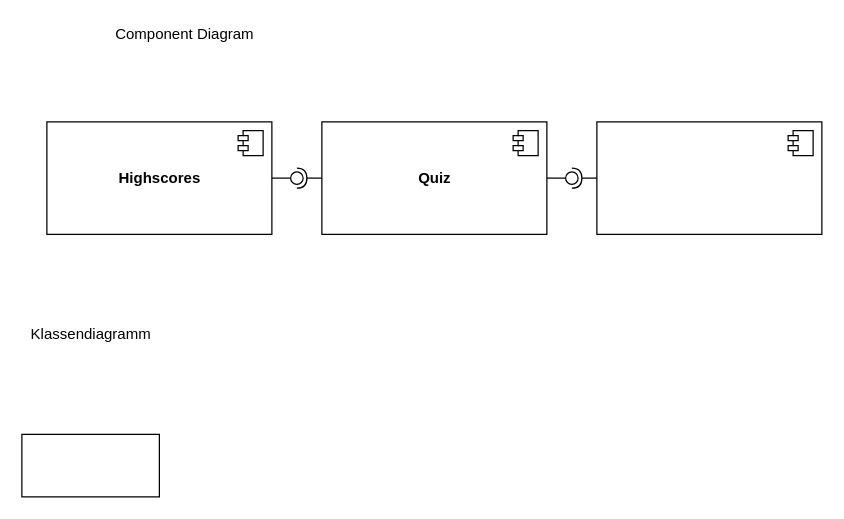
The diagram is 844 pixels wide and 519 high, and some of its shapes have lost their labels. The shapes that lost their labels are listed below. From the top down, each one's centre as x and y in pixels, then its label:
At (709,177): "User".
At (90,465): "Object".
